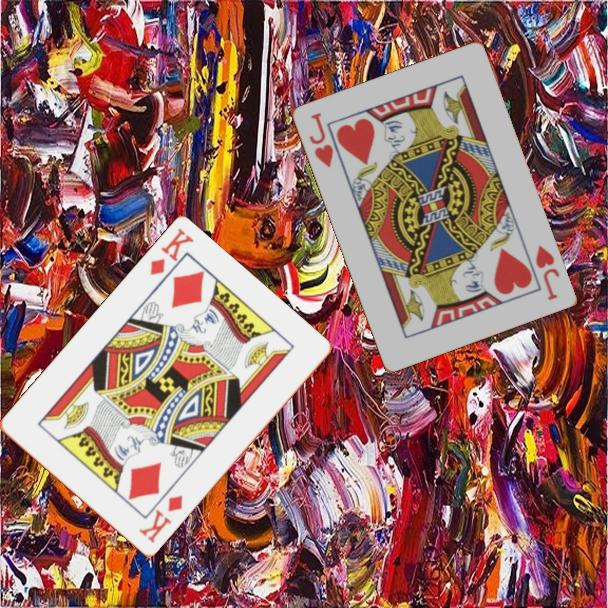d13: (135, 492, 186, 546), (146, 225, 197, 279)
h11: (305, 109, 336, 171), (531, 241, 562, 303)
